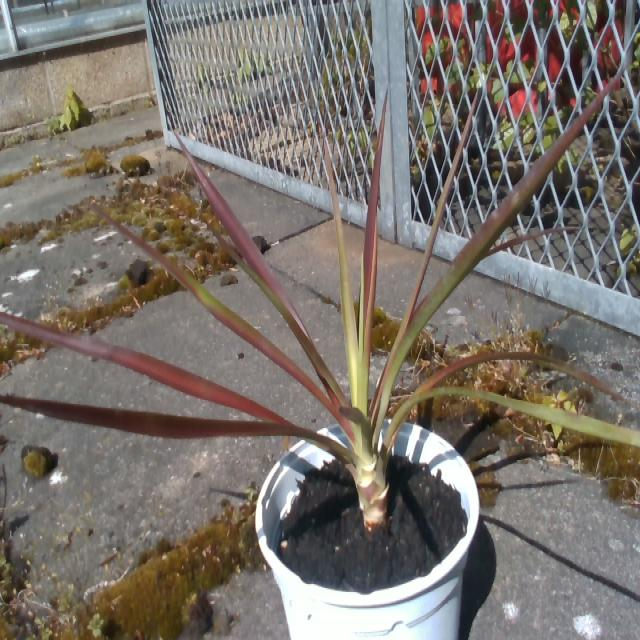Yucca-aloifolia: (381, 76, 621, 401), (93, 205, 333, 409), (179, 139, 341, 397), (0, 312, 290, 424), (0, 395, 340, 456), (392, 351, 624, 424), (400, 120, 470, 335), (391, 387, 639, 445), (210, 225, 301, 337), (330, 173, 361, 407), (363, 95, 385, 319)
